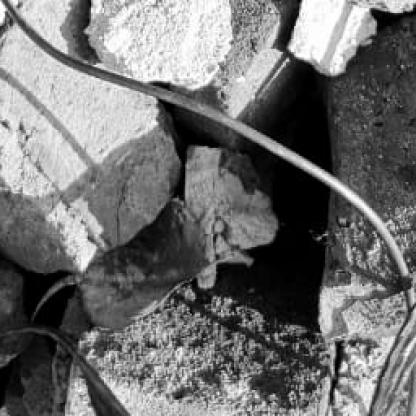cementitious_debris: (1, 2, 414, 413)
